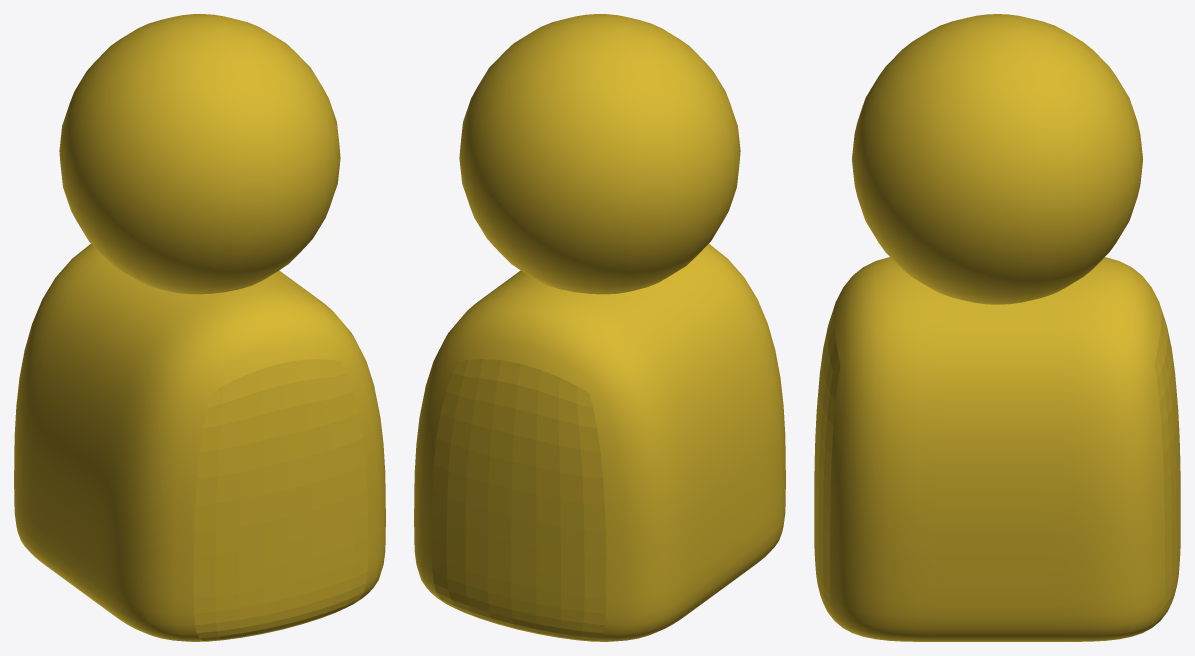
File: visitor.glb
3 renders of one model, left to right at view 1: azimuth 30°, elevation 25°; view 2: azimuth 150°, elevation 25°; view 3: azimuth 270°, elevation 25°, orthographic. The views are drawn at different scales.
Parts seen in each view (by area): view 1: Cube, Sphere.001; view 2: Cube, Sphere.001; view 3: Cube, Sphere.001.
Part boxes in pixels (bbox=[...]): Cube: bbox=[14, 244, 385, 641]; Sphere.001: bbox=[59, 14, 340, 294]; Cube: bbox=[414, 244, 785, 641]; Sphere.001: bbox=[459, 14, 740, 294]; Cube: bbox=[814, 257, 1180, 641]; Sphere.001: bbox=[852, 14, 1142, 304].
Bounding box in the file's own units: 0.0827 × 0.1665 × 0.0972.
